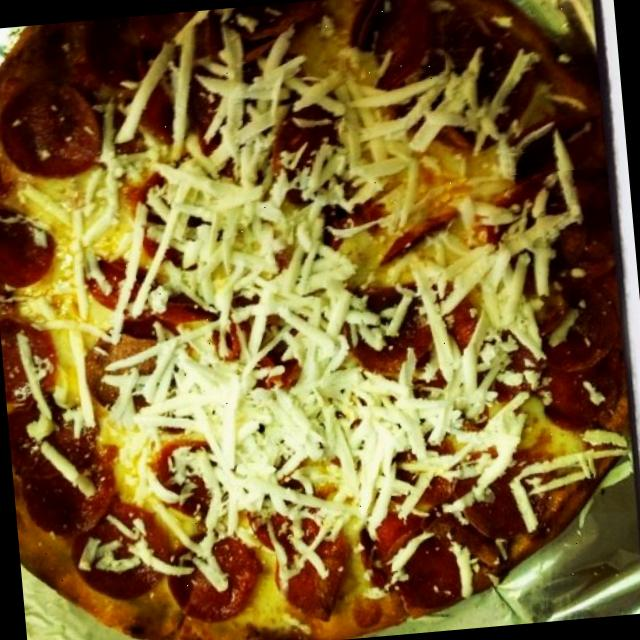cheese: (178, 344, 440, 519), (432, 202, 542, 417), (152, 128, 286, 300), (225, 228, 358, 362), (184, 22, 330, 132), (345, 68, 483, 164)
pepperoni: (524, 286, 632, 430), (78, 300, 190, 428), (334, 268, 446, 386), (425, 40, 536, 158), (0, 72, 108, 189), (22, 425, 124, 535), (448, 437, 554, 541), (532, 178, 625, 290), (366, 515, 473, 612), (70, 502, 172, 602), (88, 9, 209, 93), (336, 0, 446, 91), (268, 516, 362, 621), (266, 105, 350, 218), (170, 531, 266, 626), (504, 108, 604, 174), (0, 303, 61, 405), (5, 389, 78, 472), (0, 193, 57, 294)
pizza: (0, 0, 628, 640)
